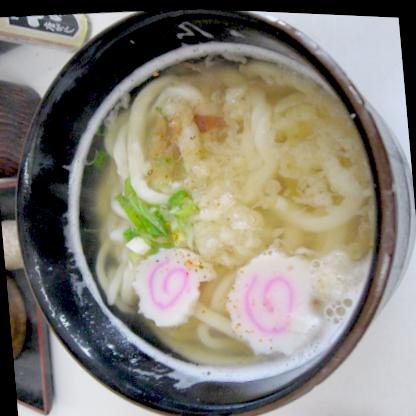Udon: (58, 27, 392, 394)
